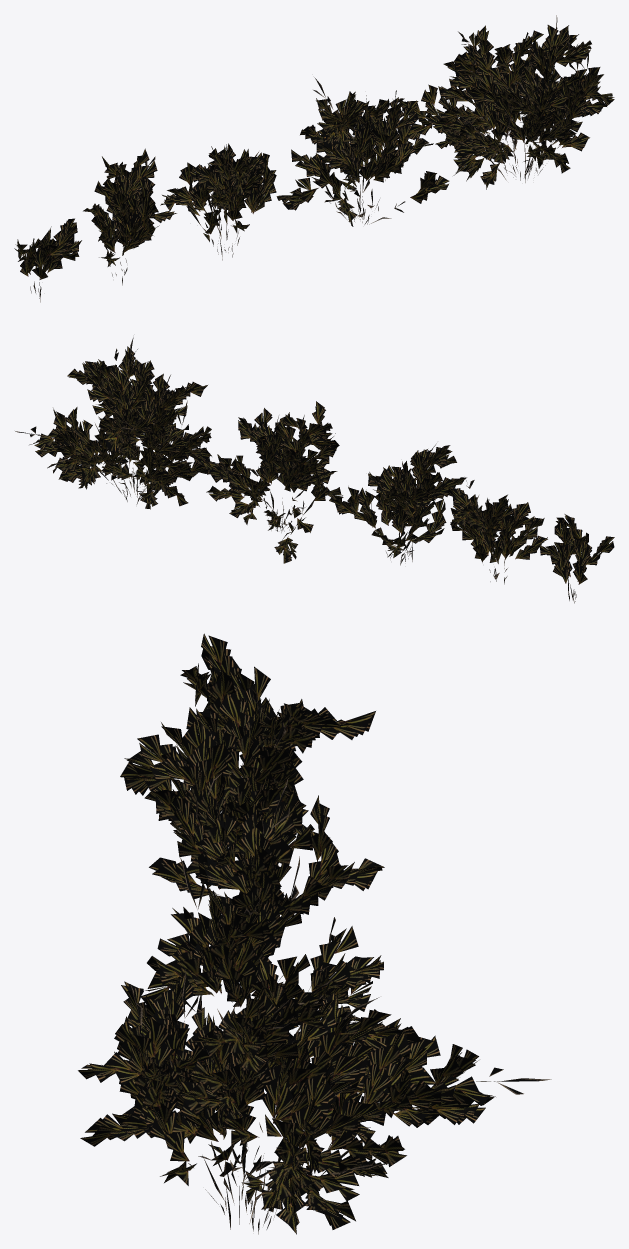
File: bushRooibos.glb
3 views of the same model, one above another, from view 1: azimuth 30°, elevation 25°; view 2: azimuth 150°, elevation 25°; view 3: azimuth 270°, elevation 25° (orthographic). The views are drawn at different scales.
Visible parts, largest first — view 1: wild_rooibos_bush_a, wild_rooibos_bush_b, wild_rooibos_bush_c, wild_rooibos_bush_d, wild_rooibos_bush_e; view 2: wild_rooibos_bush_a, wild_rooibos_bush_b, wild_rooibos_bush_c, wild_rooibos_bush_d, wild_rooibos_bush_e; view 3: wild_rooibos_bush_a, wild_rooibos_bush_b, wild_rooibos_bush_c, wild_rooibos_bush_d, wild_rooibos_bush_e.
Boxes of the visible parts, x1=… form: wild_rooibos_bush_a: x1=398, y1=15, x2=614, y2=189; wild_rooibos_bush_b: x1=276, y1=77, x2=449, y2=226; wild_rooibos_bush_c: x1=160, y1=143, x2=276, y2=260; wild_rooibos_bush_d: x1=83, y1=148, x2=176, y2=285; wild_rooibos_bush_e: x1=14, y1=218, x2=81, y2=302; wild_rooibos_bush_a: x1=15, y1=337, x2=219, y2=509; wild_rooibos_bush_b: x1=206, y1=401, x2=343, y2=563; wild_rooibos_bush_c: x1=329, y1=443, x2=466, y2=565; wild_rooibos_bush_d: x1=447, y1=477, x2=547, y2=584; wild_rooibos_bush_e: x1=539, y1=514, x2=614, y2=603; wild_rooibos_bush_a: x1=78, y1=958, x2=551, y2=1234; wild_rooibos_bush_b: x1=141, y1=778, x2=383, y2=1056; wild_rooibos_bush_c: x1=120, y1=717, x2=384, y2=916; wild_rooibos_bush_d: x1=161, y1=666, x2=375, y2=814; wild_rooibos_bush_e: x1=180, y1=633, x2=273, y2=751.
Size of the model in its own units: 2.27 by 0.5439 by 0.8433.
3 materials, 3 textured.
